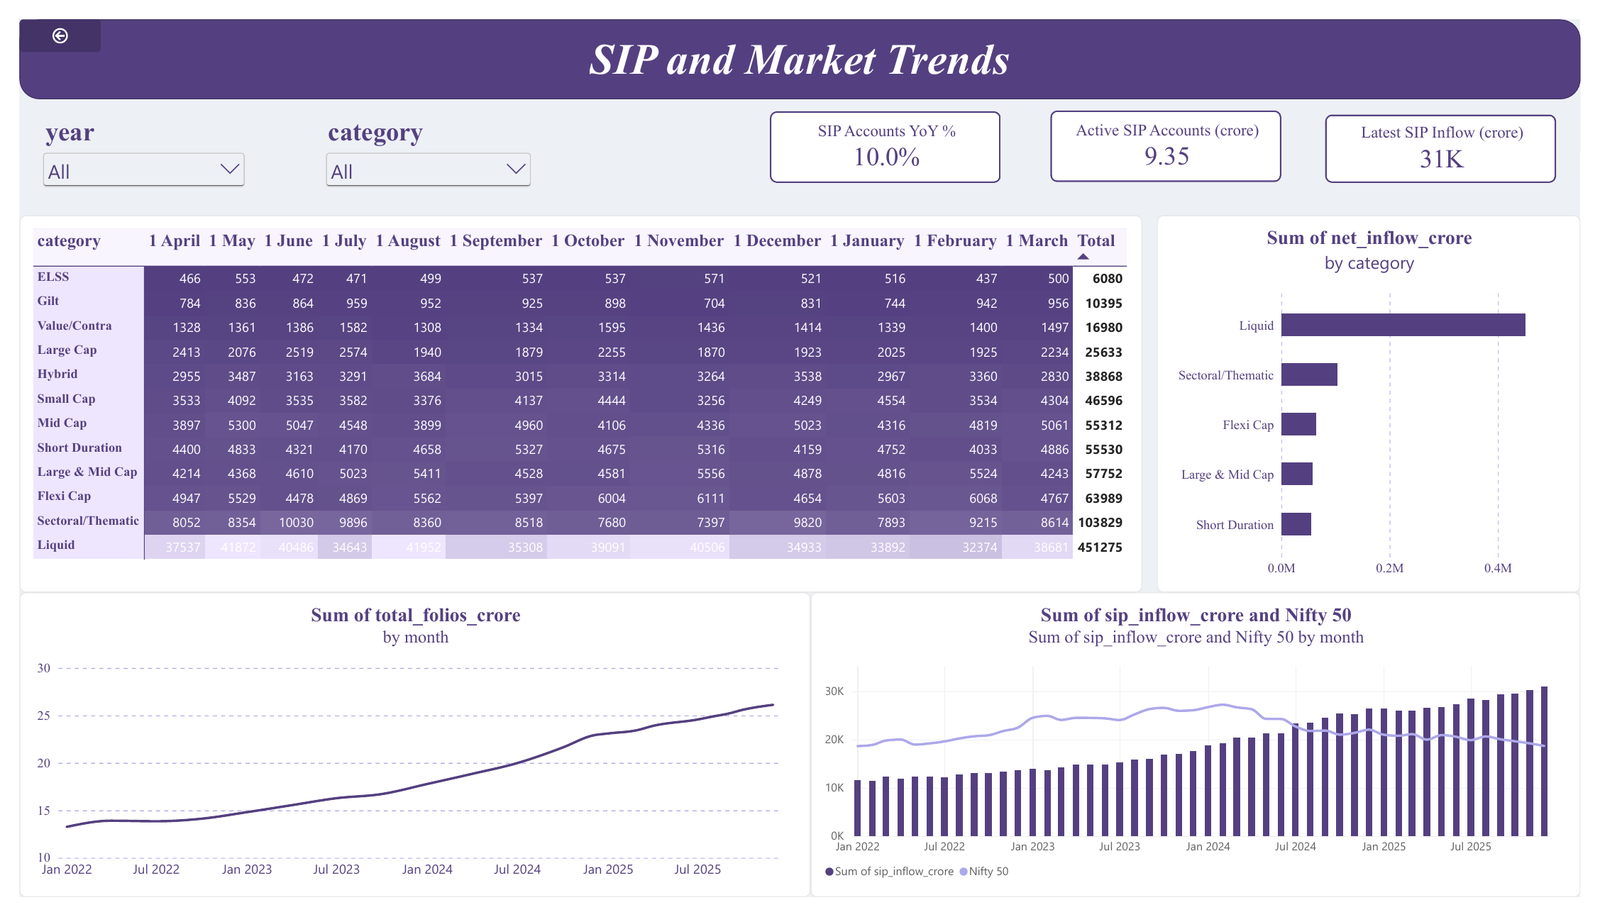

Layout of this report page (visuals, bound fields, positions):
{"tool":"powerbi","page":{"name":"SIP and Market Trends","canvas":[1920,1080],"ordinal":3},"visuals":[{"type":"shape","title":"Industry Overview","box":[0,0,1920.4,97.7],"z":0},{"type":"slicer","fields":{"Values":["Calendar.Year"]},"box":[24.4,120.3,258,96],"z":1000},{"type":"slicer","fields":{"Values":["category_inflows.category"]},"box":[371.5,120.3,262,106],"z":3000},{"type":"actionButton","box":[0,0,100,40],"z":4000},{"type":"cardVisual","title":"Top-10 AMC AUM (lakh crore)","fields":{"Data":["monthly_sip_inflows.Latest SIP Inflow (crore)"]},"box":[1606.4,116.9,284,84],"z":5000},{"type":"cardVisual","title":"Top-10 AMC AUM (lakh crore)","fields":{"Data":["monthly_sip_inflows.Active SIP Accounts (crore)"]},"box":[1268,111.6,284.3,89],"z":6000},{"type":"cardVisual","title":"Top-10 AMC AUM (lakh crore)","fields":{"Data":["monthly_sip_inflows.SIP Accounts YoY %"]},"box":[922.7,113.4,284.3,89],"z":7000},{"type":"lineChart","fields":{"Category":["industry_folio_count.month"],"Y":["Sum(industry_folio_count.total_folios_crore)"]},"box":[0,704.7,973.3,375],"z":12000},{"type":"pivotTable","fields":{"Columns":["category_inflows.month"],"Rows":["category_inflows.category"],"Values":["Sum(category_inflows.net_inflow_crore)"]},"box":[0,240.7,1381.4,464],"z":12002},{"type":"clusteredBarChart","fields":{"Category":["category_inflows.category"],"Y":["Sum(category_inflows.net_inflow_crore)"]},"box":[1398.8,240.7,521.5,464],"z":12003},{"type":"lineClusteredColumnComboChart","title":"Sum of sip_inflow_crore and Nifty 50","fields":{"Category":["sip_vs_nifty_monthly.month"],"Y":["Sum(sip_vs_nifty_monthly.sip_inflow_crore)"],"Y2":["sip_vs_nifty_monthly.Nifty 50"]},"box":[973.3,704.7,947.1,375],"z":12004}]}

Visuals, with their boxes in screenshot pixels (x1, y1, x2, y2), scaled from the page's 1920x1080 canvas onto the 1600x917 screenshot:
"Industry Overview" shape: (x1=0, y1=0, x2=1599, y2=83)
slicer - Calendar.Year: (x1=20, y1=102, x2=235, y2=184)
slicer - category_inflows.category: (x1=310, y1=102, x2=528, y2=192)
actionButton: (x1=0, y1=0, x2=83, y2=34)
"Top-10 AMC AUM (lakh crore)" cardVisual: (x1=1339, y1=99, x2=1575, y2=171)
"Top-10 AMC AUM (lakh crore)" cardVisual: (x1=1057, y1=95, x2=1294, y2=170)
"Top-10 AMC AUM (lakh crore)" cardVisual: (x1=769, y1=96, x2=1006, y2=172)
lineChart - industry_folio_count.month x Sum(industry_folio_count.total_folios_crore): (x1=0, y1=598, x2=811, y2=916)
pivotTable - category_inflows.month x category_inflows.category: (x1=0, y1=204, x2=1151, y2=598)
clusteredBarChart - category_inflows.category x Sum(category_inflows.net_inflow_crore): (x1=1166, y1=204, x2=1599, y2=598)
"Sum of sip_inflow_crore and Nifty 50" lineClusteredColumnComboChart: (x1=811, y1=598, x2=1599, y2=916)
